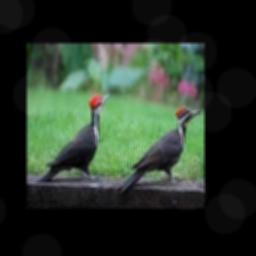Woodpecker: (118, 105, 201, 192), (37, 92, 110, 181)
